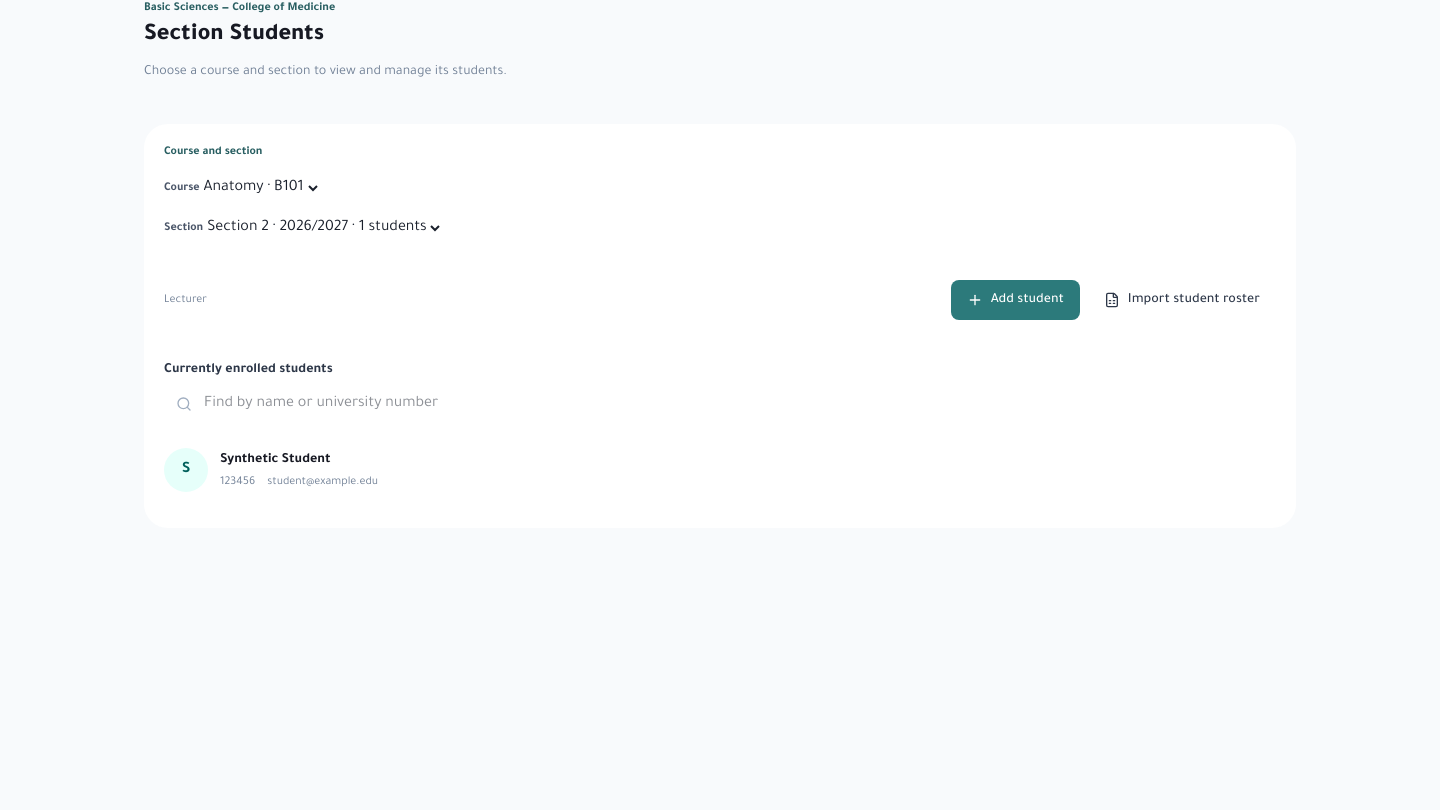
Test case: Basic attendance course → section workflow › shows the roster template and preview only on the roster page
expect the text "Synthetic Student" is shown: met, box [220,453,330,467]
Click the button "Import student roster": click(1182, 300) [1088,280,1276,320]
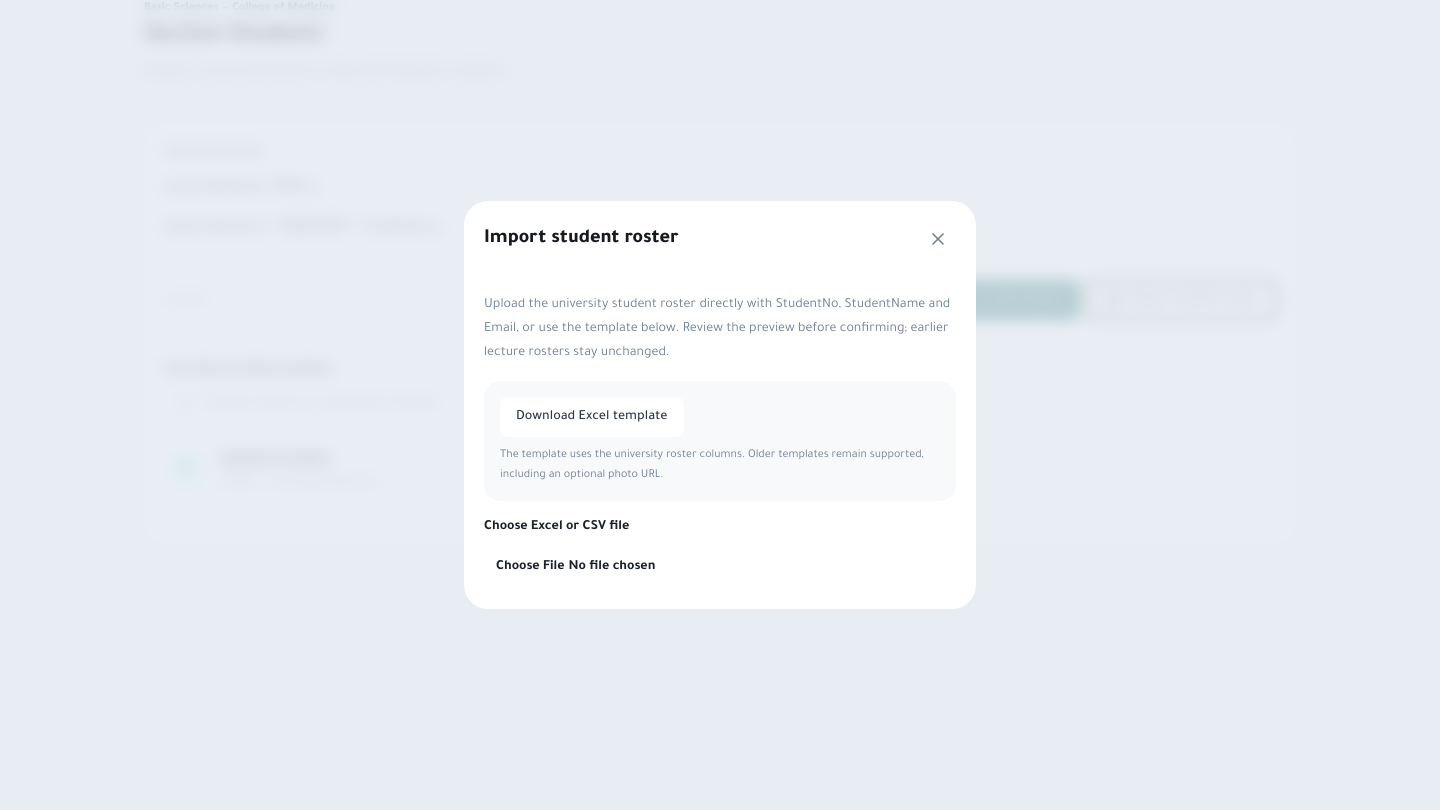
expect the button "Download Excel template" is shown: met, box [500,397,684,437]
